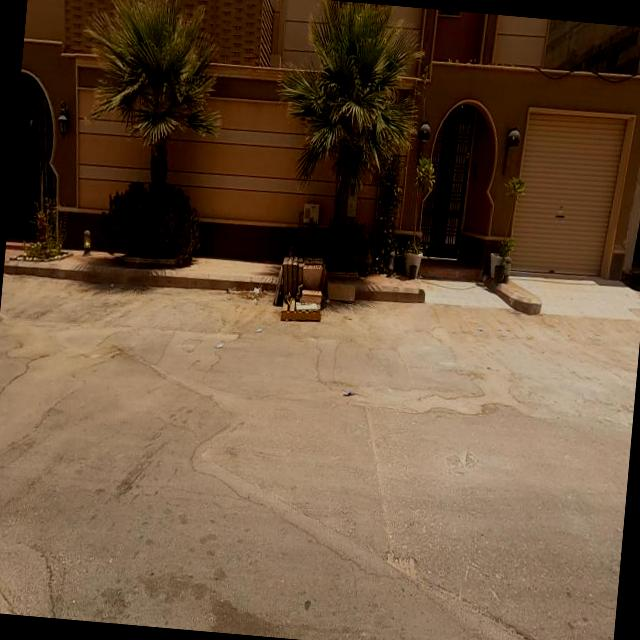debris: (222, 205, 371, 388), (204, 256, 291, 338), (312, 362, 374, 419), (192, 312, 238, 376), (236, 304, 280, 358)
